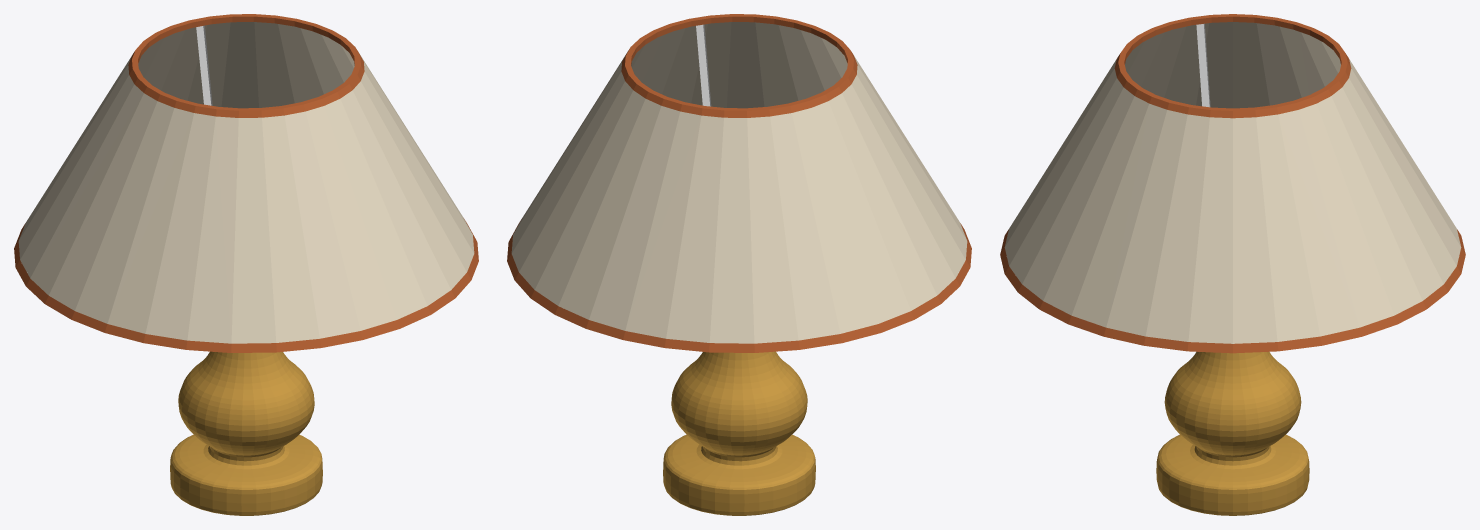
The model's file is sh-scopia-little-lamp1.glb.
3 renders of one model, left to right at view 1: azimuth 30°, elevation 25°; view 2: azimuth 150°, elevation 25°; view 3: azimuth 270°, elevation 25°, orthographic.
Visible parts, largest first — view 1: lamp2_Circle.002_squares_multilamps.jpg, lamp2_sub_Circle.003, lamp2_Circle.002_border_multilamps.jpg, lamp2_Circle.002_whitesop; view 2: lamp2_Circle.002_squares_multilamps.jpg, lamp2_sub_Circle.003, lamp2_Circle.002_border_multilamps.jpg, lamp2_Circle.002_whitesop; view 3: lamp2_Circle.002_squares_multilamps.jpg, lamp2_sub_Circle.003, lamp2_Circle.002_border_multilamps.jpg, lamp2_Circle.002_whitesop.
Boxes of the visible parts, box(x1,y1,x2,y2) form: lamp2_Circle.002_squares_multilamps.jpg: box(18, 22, 474, 343); lamp2_sub_Circle.003: box(170, 351, 322, 515); lamp2_Circle.002_border_multilamps.jpg: box(14, 14, 478, 352); lamp2_Circle.002_whitesop: box(196, 25, 212, 105); lamp2_Circle.002_squares_multilamps.jpg: box(511, 22, 967, 343); lamp2_sub_Circle.003: box(663, 351, 815, 515); lamp2_Circle.002_border_multilamps.jpg: box(507, 14, 971, 352); lamp2_Circle.002_whitesop: box(696, 24, 711, 106); lamp2_Circle.002_squares_multilamps.jpg: box(1004, 22, 1461, 343); lamp2_sub_Circle.003: box(1156, 351, 1309, 515); lamp2_Circle.002_border_multilamps.jpg: box(1000, 14, 1465, 353); lamp2_Circle.002_whitesop: box(1196, 23, 1210, 107).
Bounding box in the file's own units: 1 × 1 × 1.
